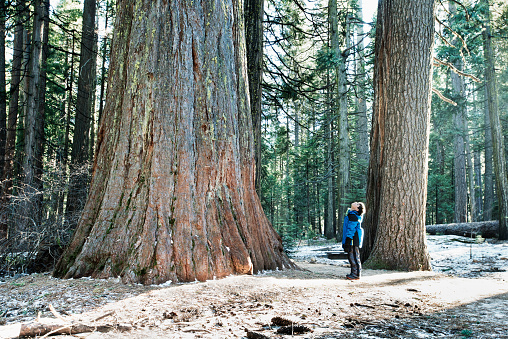em pe: (337, 203, 362, 268)
